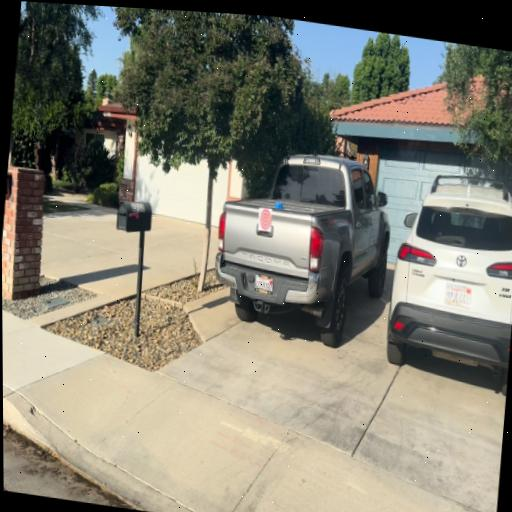bullseye: (259, 209, 272, 232)
